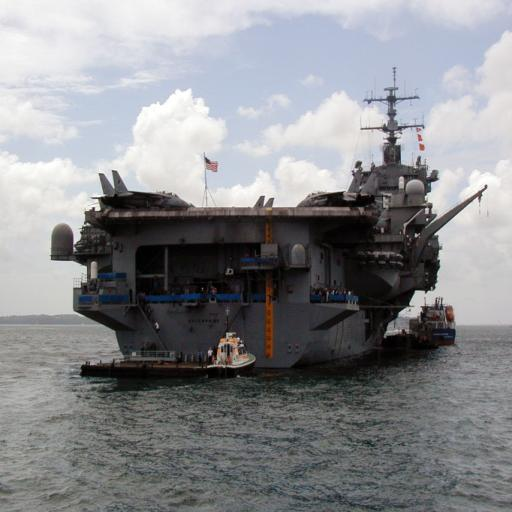Portanaves: (44, 57, 493, 399)
